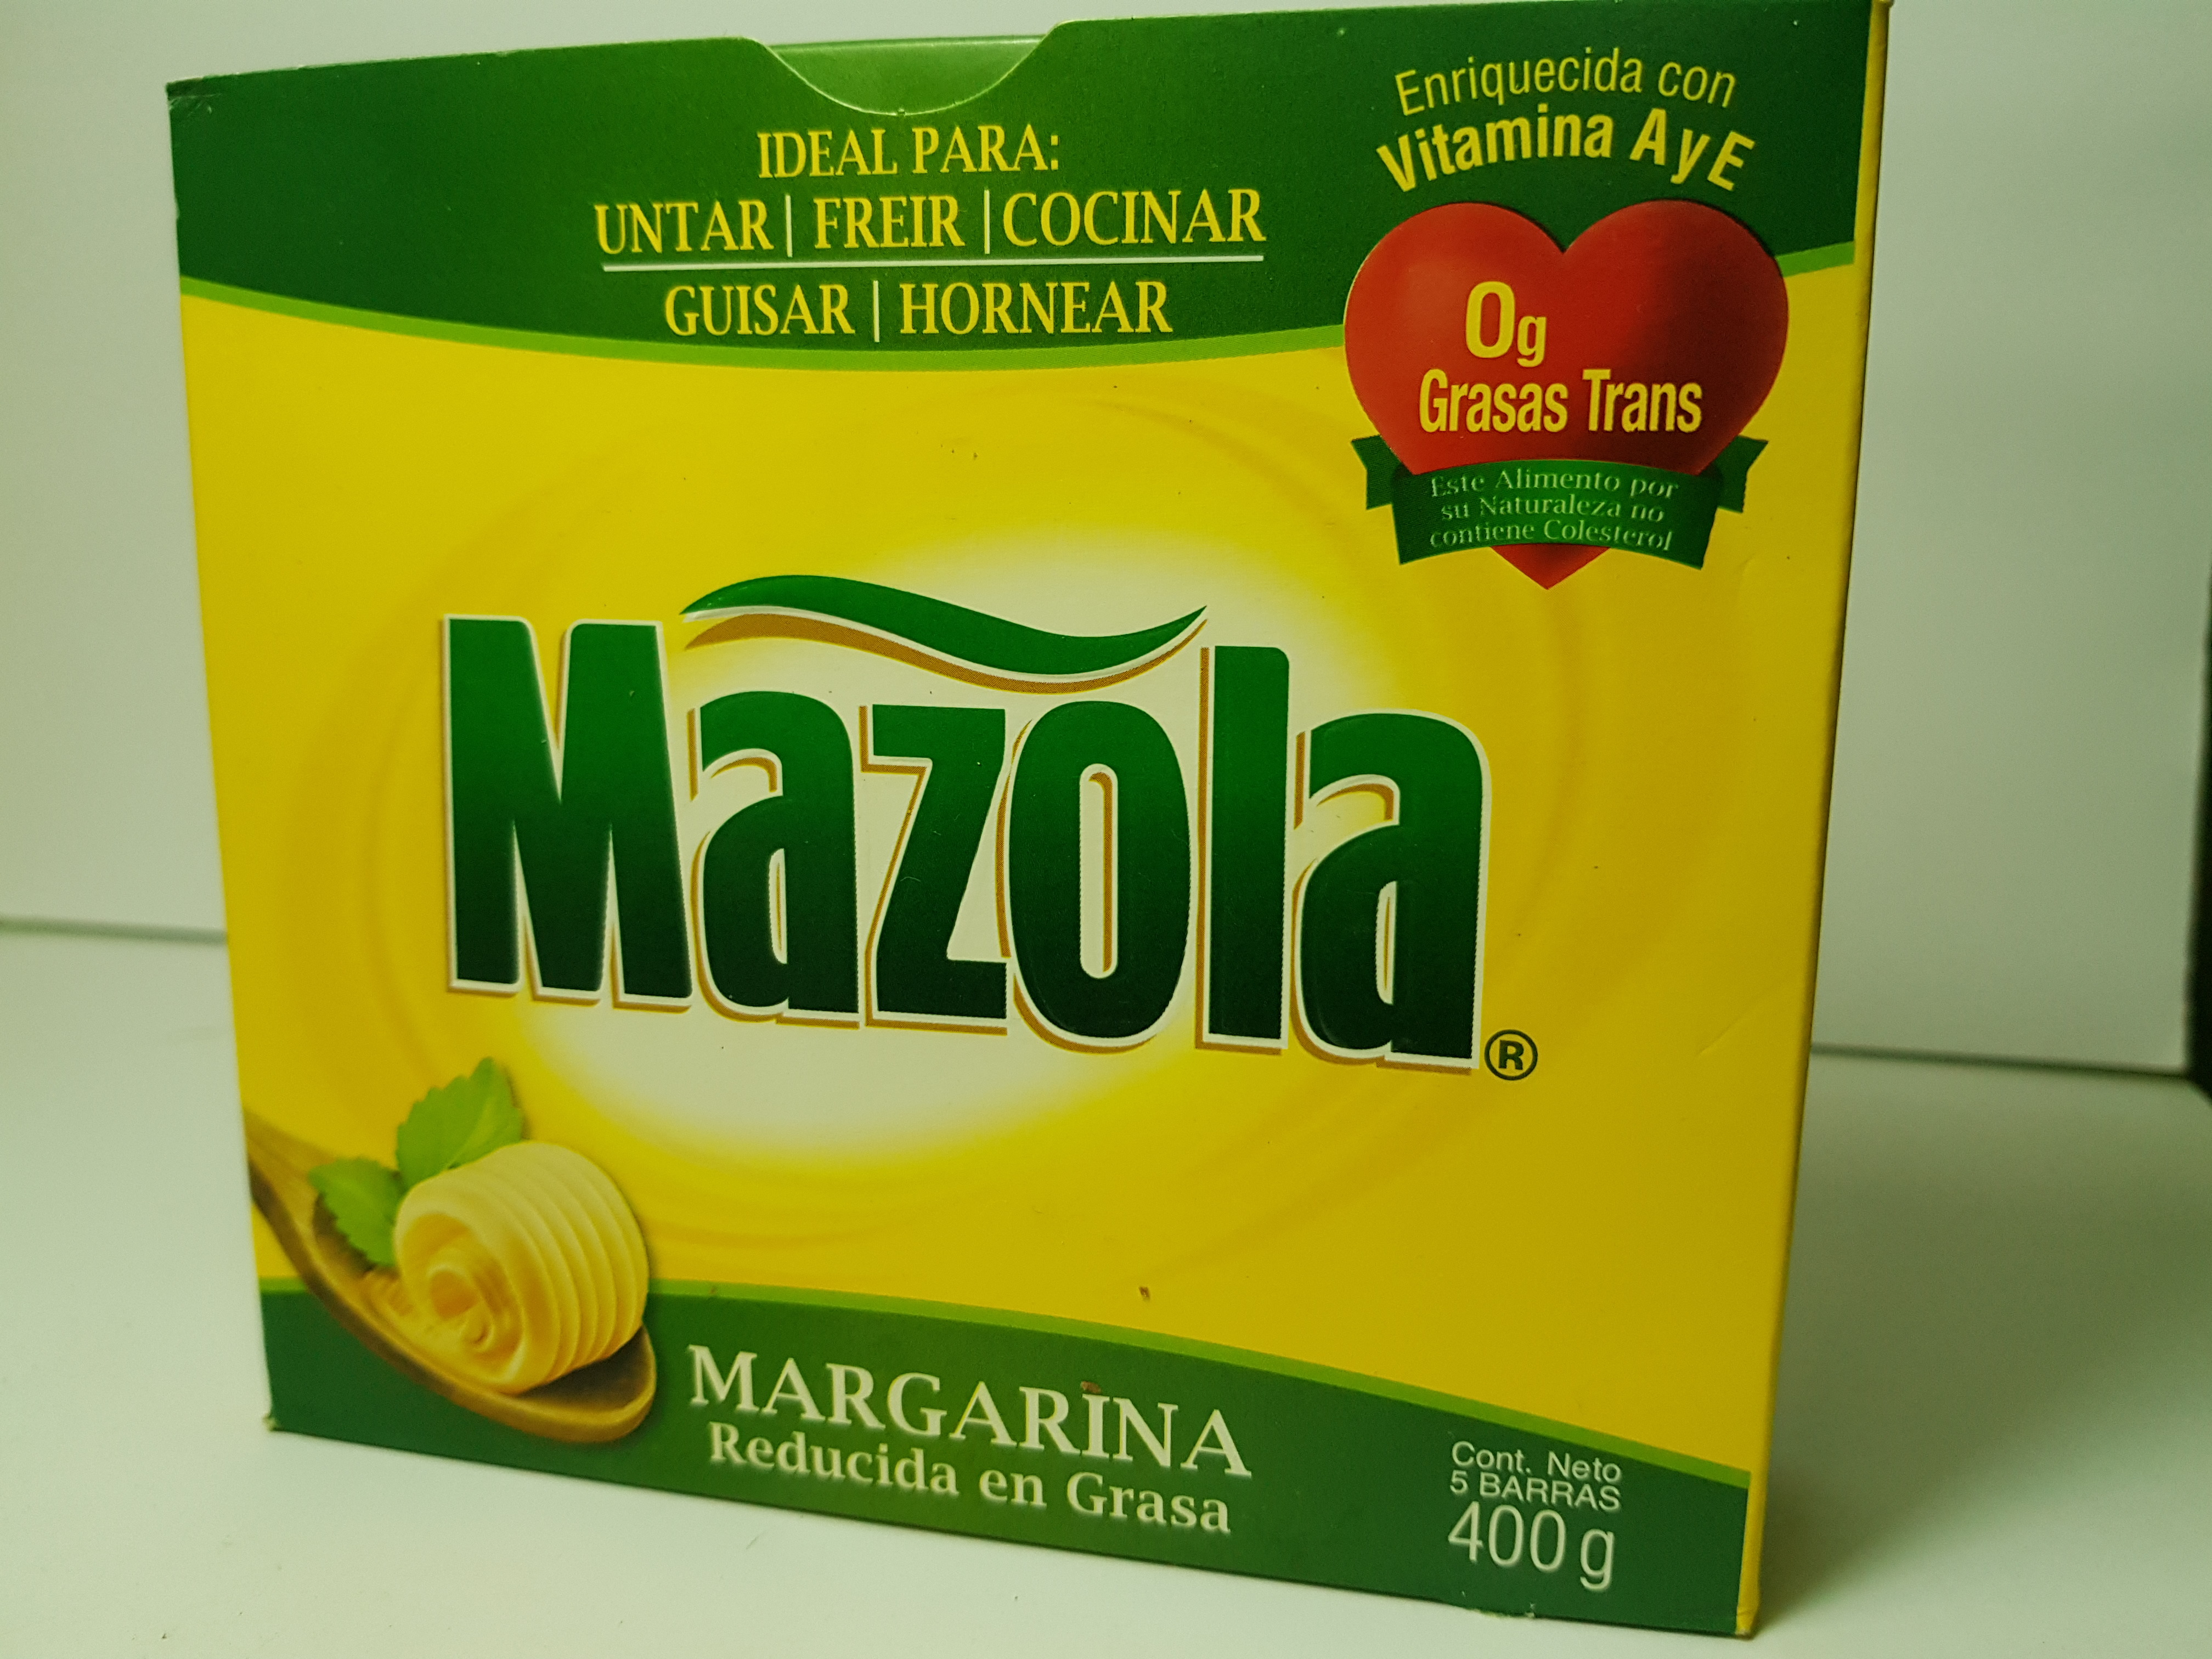mazola: (153, 0, 1888, 1622)
